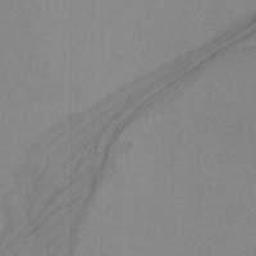Oil spot: (0, 9, 256, 256)
